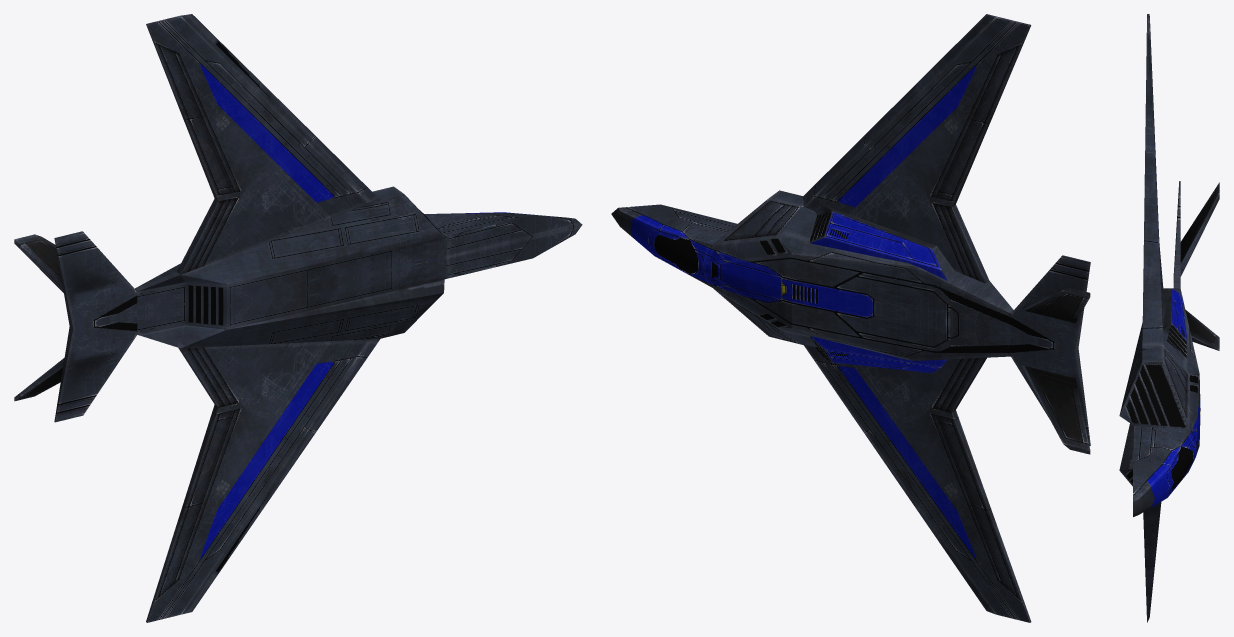
Rendered from fighterJet.dae.
3 renders of one model, left to right at view 1: azimuth 30°, elevation 25°; view 2: azimuth 150°, elevation 25°; view 3: azimuth 270°, elevation 25°, orthographic.
Parts seen in each view (by area): view 1: SketchUp (×2); view 2: SketchUp (×4); view 3: SketchUp (×6).
Part boxes in pixels (x1=…): SketchUp (×2): x1=14, y1=14, x2=582, y2=622; SketchUp (×4): x1=611, y1=14, x2=1090, y2=622; SketchUp (×6): x1=1119, y1=14, x2=1219, y2=622.
Size of the model in its own units: 11.88 by 2 by 12.96.
18 materials, 16 textured.
